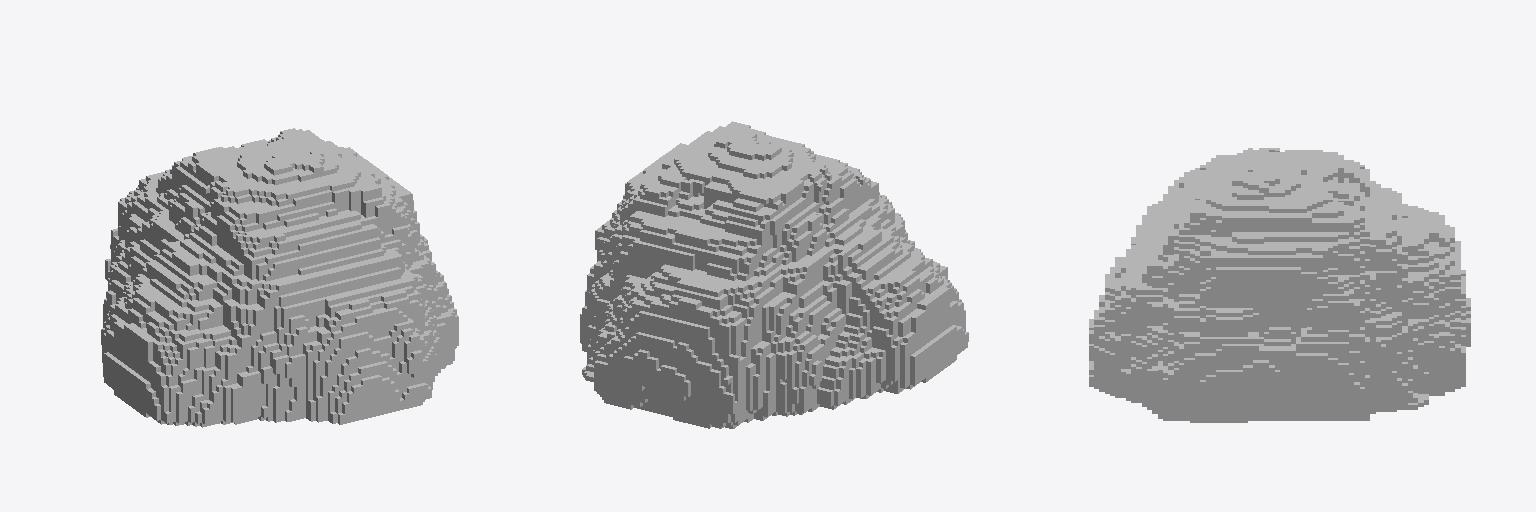
File: rock_2.obj
The picture shows the model from 3 angles: view 1: azimuth 30°, elevation 25°; view 2: azimuth 150°, elevation 25°; view 3: azimuth 270°, elevation 25°; orthographic projection.
Visible parts, largest first — view 1: object 1; view 2: object 1; view 3: object 1.
Part boxes in pixels (bbox=[...]): object 1: bbox=[101, 128, 458, 427]; object 1: bbox=[580, 121, 968, 428]; object 1: bbox=[1089, 148, 1470, 422].
Bounding box in the file's own units: 6.5 × 4 × 7.2.